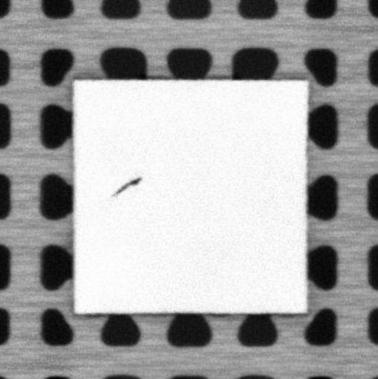DIE_INK: (111, 175, 144, 197)
